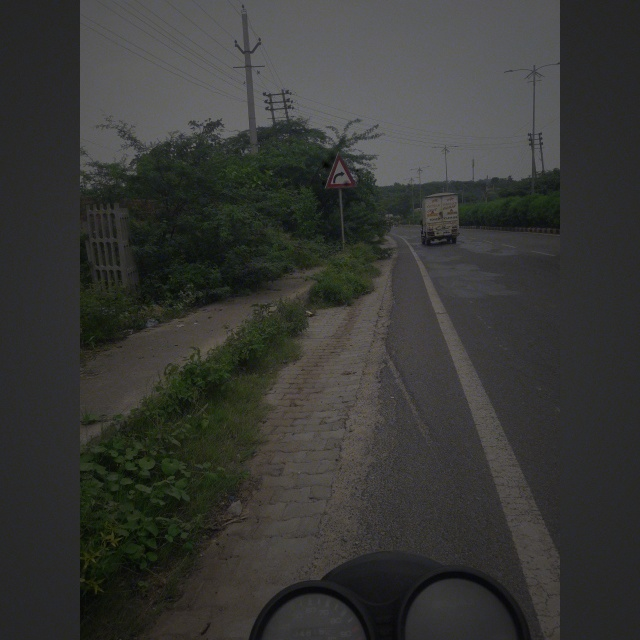Right_Hand_Curve: (322, 152, 360, 188)
